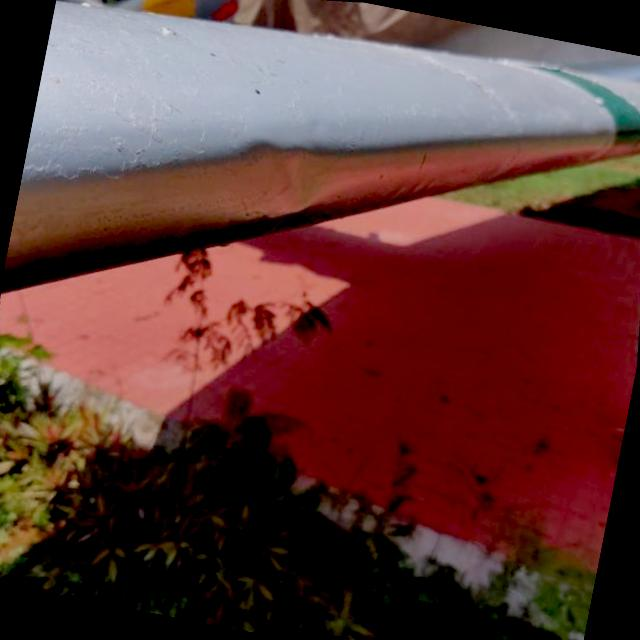dent: (211, 134, 346, 262)
